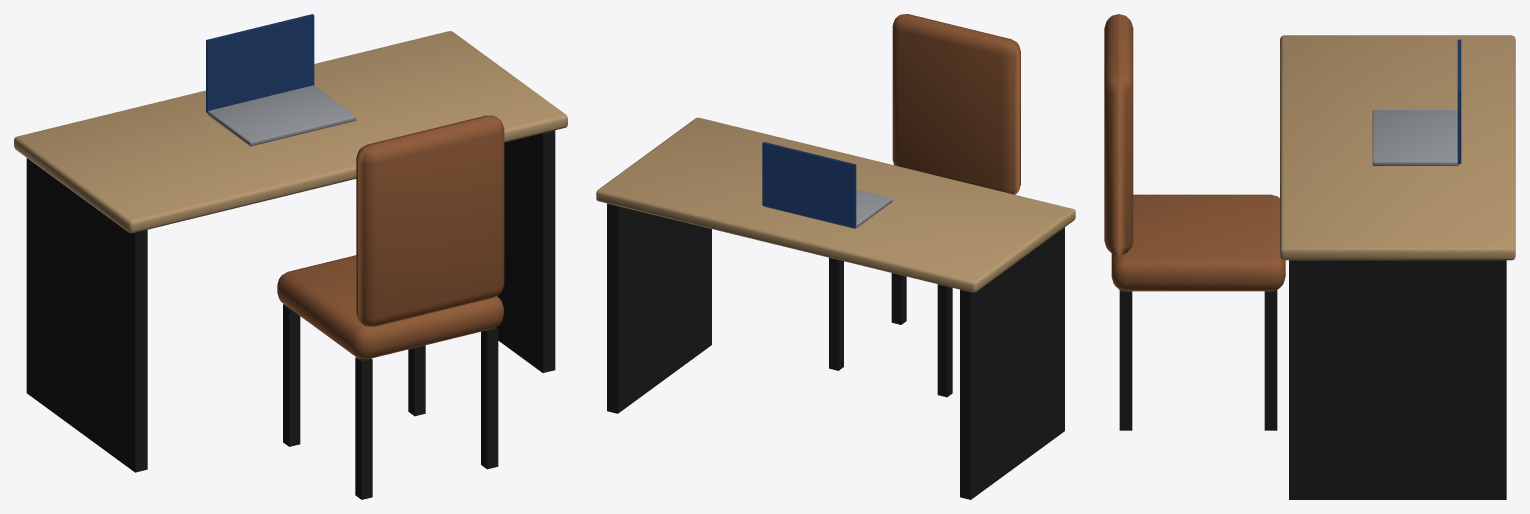
Rendered from fur_desk_set.glb.
The picture shows the model from 3 angles, left to right: view 1: azimuth 30°, elevation 25°; view 2: azimuth 150°, elevation 25°; view 3: azimuth 270°, elevation 25°; orthographic projection. The views are drawn at different scales.
Parts seen in each view (by area): view 1: FUR_desk_set; view 2: FUR_desk_set; view 3: FUR_desk_set.
Part boxes in pixels (bbox=[...]): FUR_desk_set: bbox=[14, 14, 567, 499]; FUR_desk_set: bbox=[596, 14, 1075, 499]; FUR_desk_set: bbox=[1104, 14, 1515, 499].
Size of the model in its own units: 1.4 by 1.08 by 1.14.
3 materials, 1 textured.
